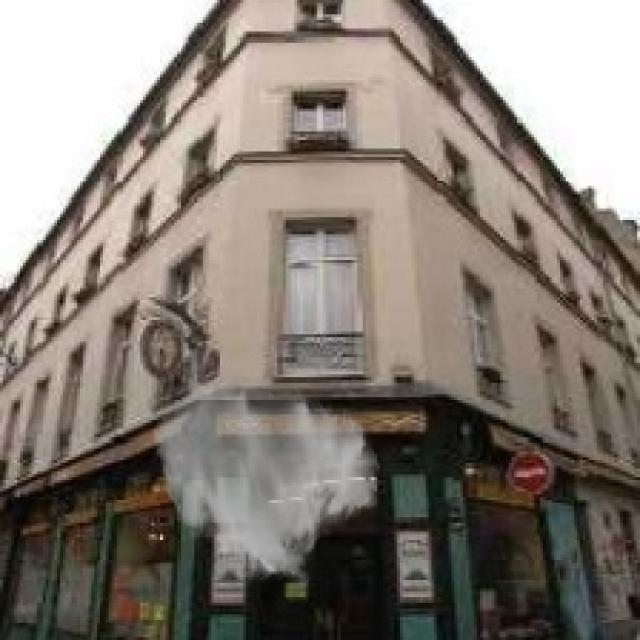Smoke: (151, 381, 383, 588)
